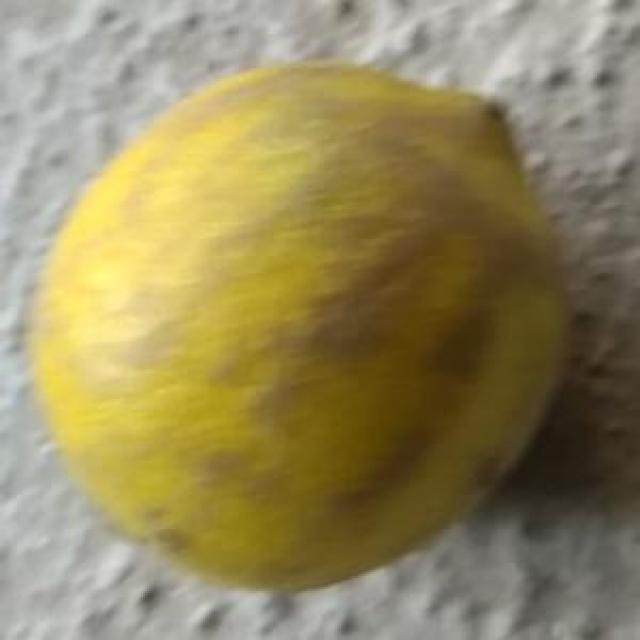lemon: (31, 64, 577, 599)
